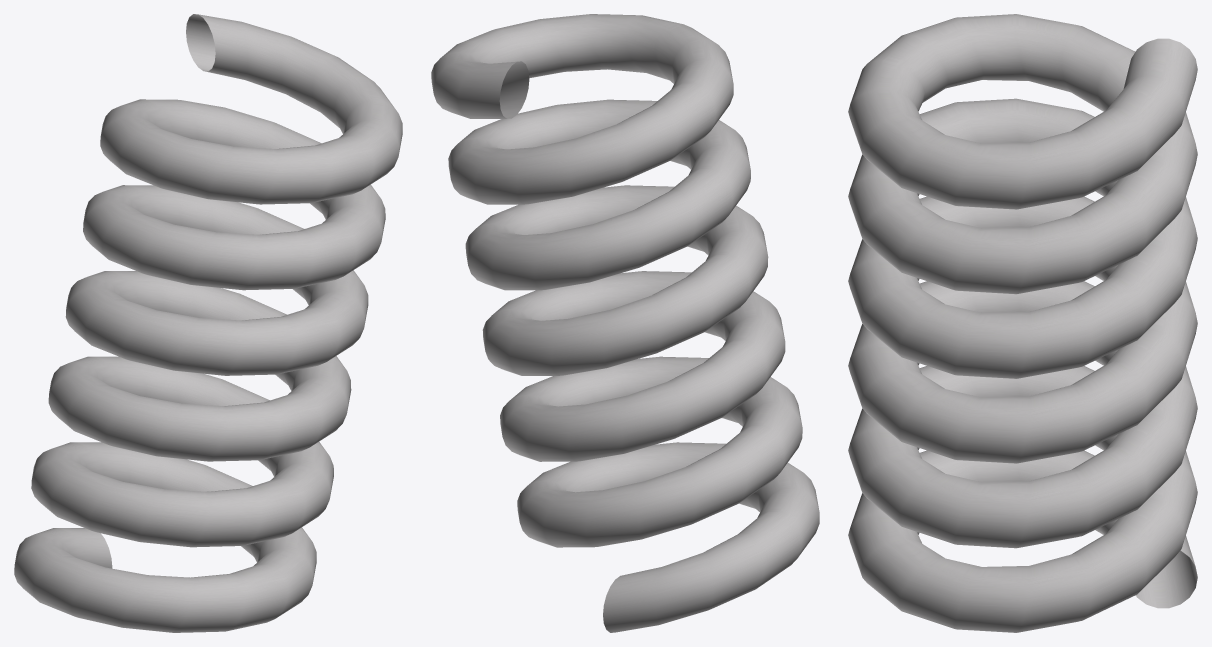
The model's file is LSpring.fbx.
The picture shows the model from 3 angles, left to right: view 1: azimuth 30°, elevation 25°; view 2: azimuth 150°, elevation 25°; view 3: azimuth 270°, elevation 25°; orthographic projection. The views are drawn at different scales.
Visible parts, largest first — view 1: Cylinder.076; view 2: Cylinder.076; view 3: Cylinder.076.
Boxes of the visible parts, <box> form: Cylinder.076: <box>14,14,402,632</box>; Cylinder.076: <box>431,14,819,632</box>; Cylinder.076: <box>848,14,1197,632</box>.
Bounding box in the file's own units: 72.2 × 107 × 53.84.
1 material, 1 textured.
